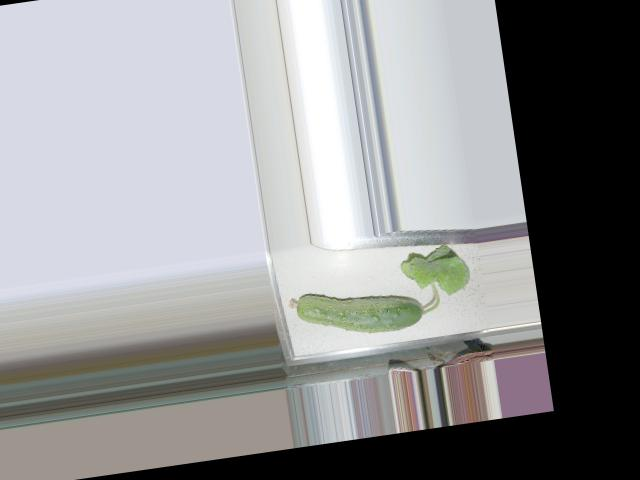cucumber: (287, 278, 426, 345)
